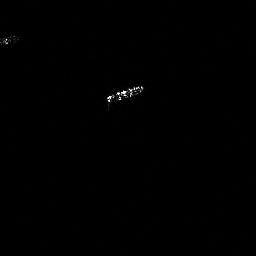ship: (103, 81, 148, 105)
